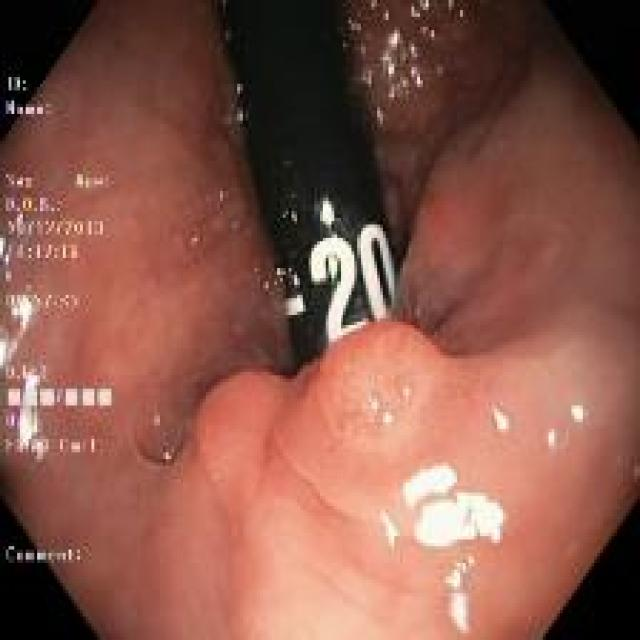Polyps: (318, 321, 456, 453)
